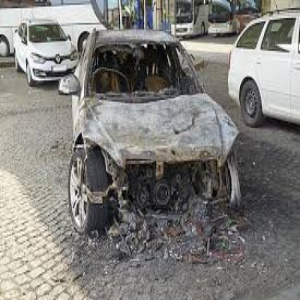bumper: (109, 169, 229, 244)
